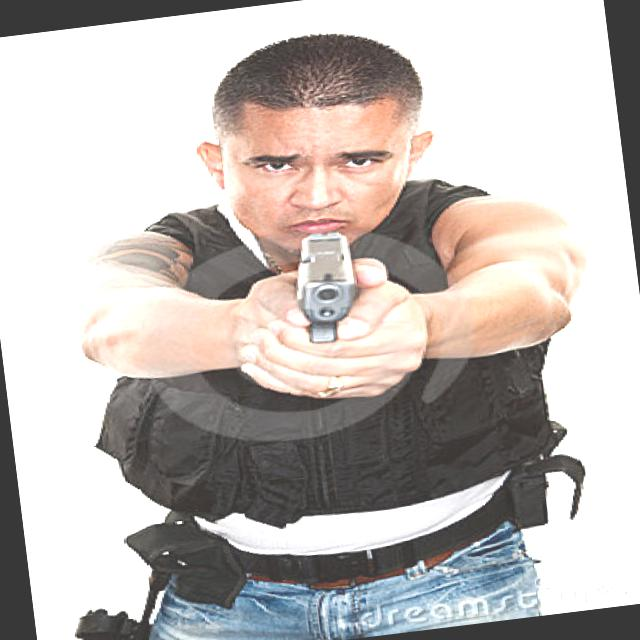handgun: (285, 226, 365, 348)
